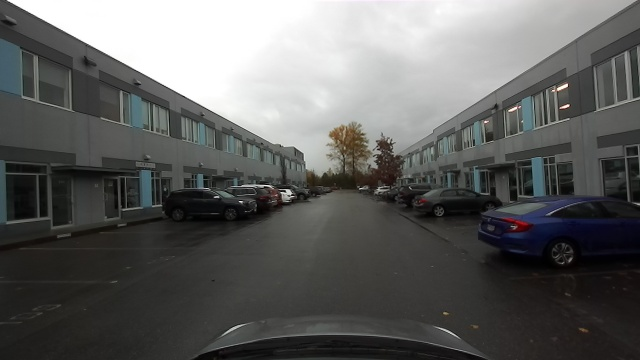car: (477, 198, 638, 265), (164, 189, 255, 220), (413, 187, 477, 219), (257, 187, 279, 208), (294, 186, 309, 202)
